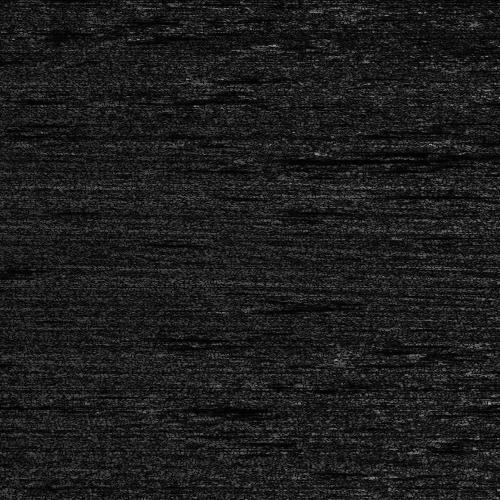object: (250, 148, 291, 171), (358, 186, 389, 201), (314, 148, 367, 153), (487, 333, 498, 350)
shadow: (271, 148, 462, 171), (374, 186, 499, 201), (341, 148, 492, 153), (173, 405, 281, 408)
